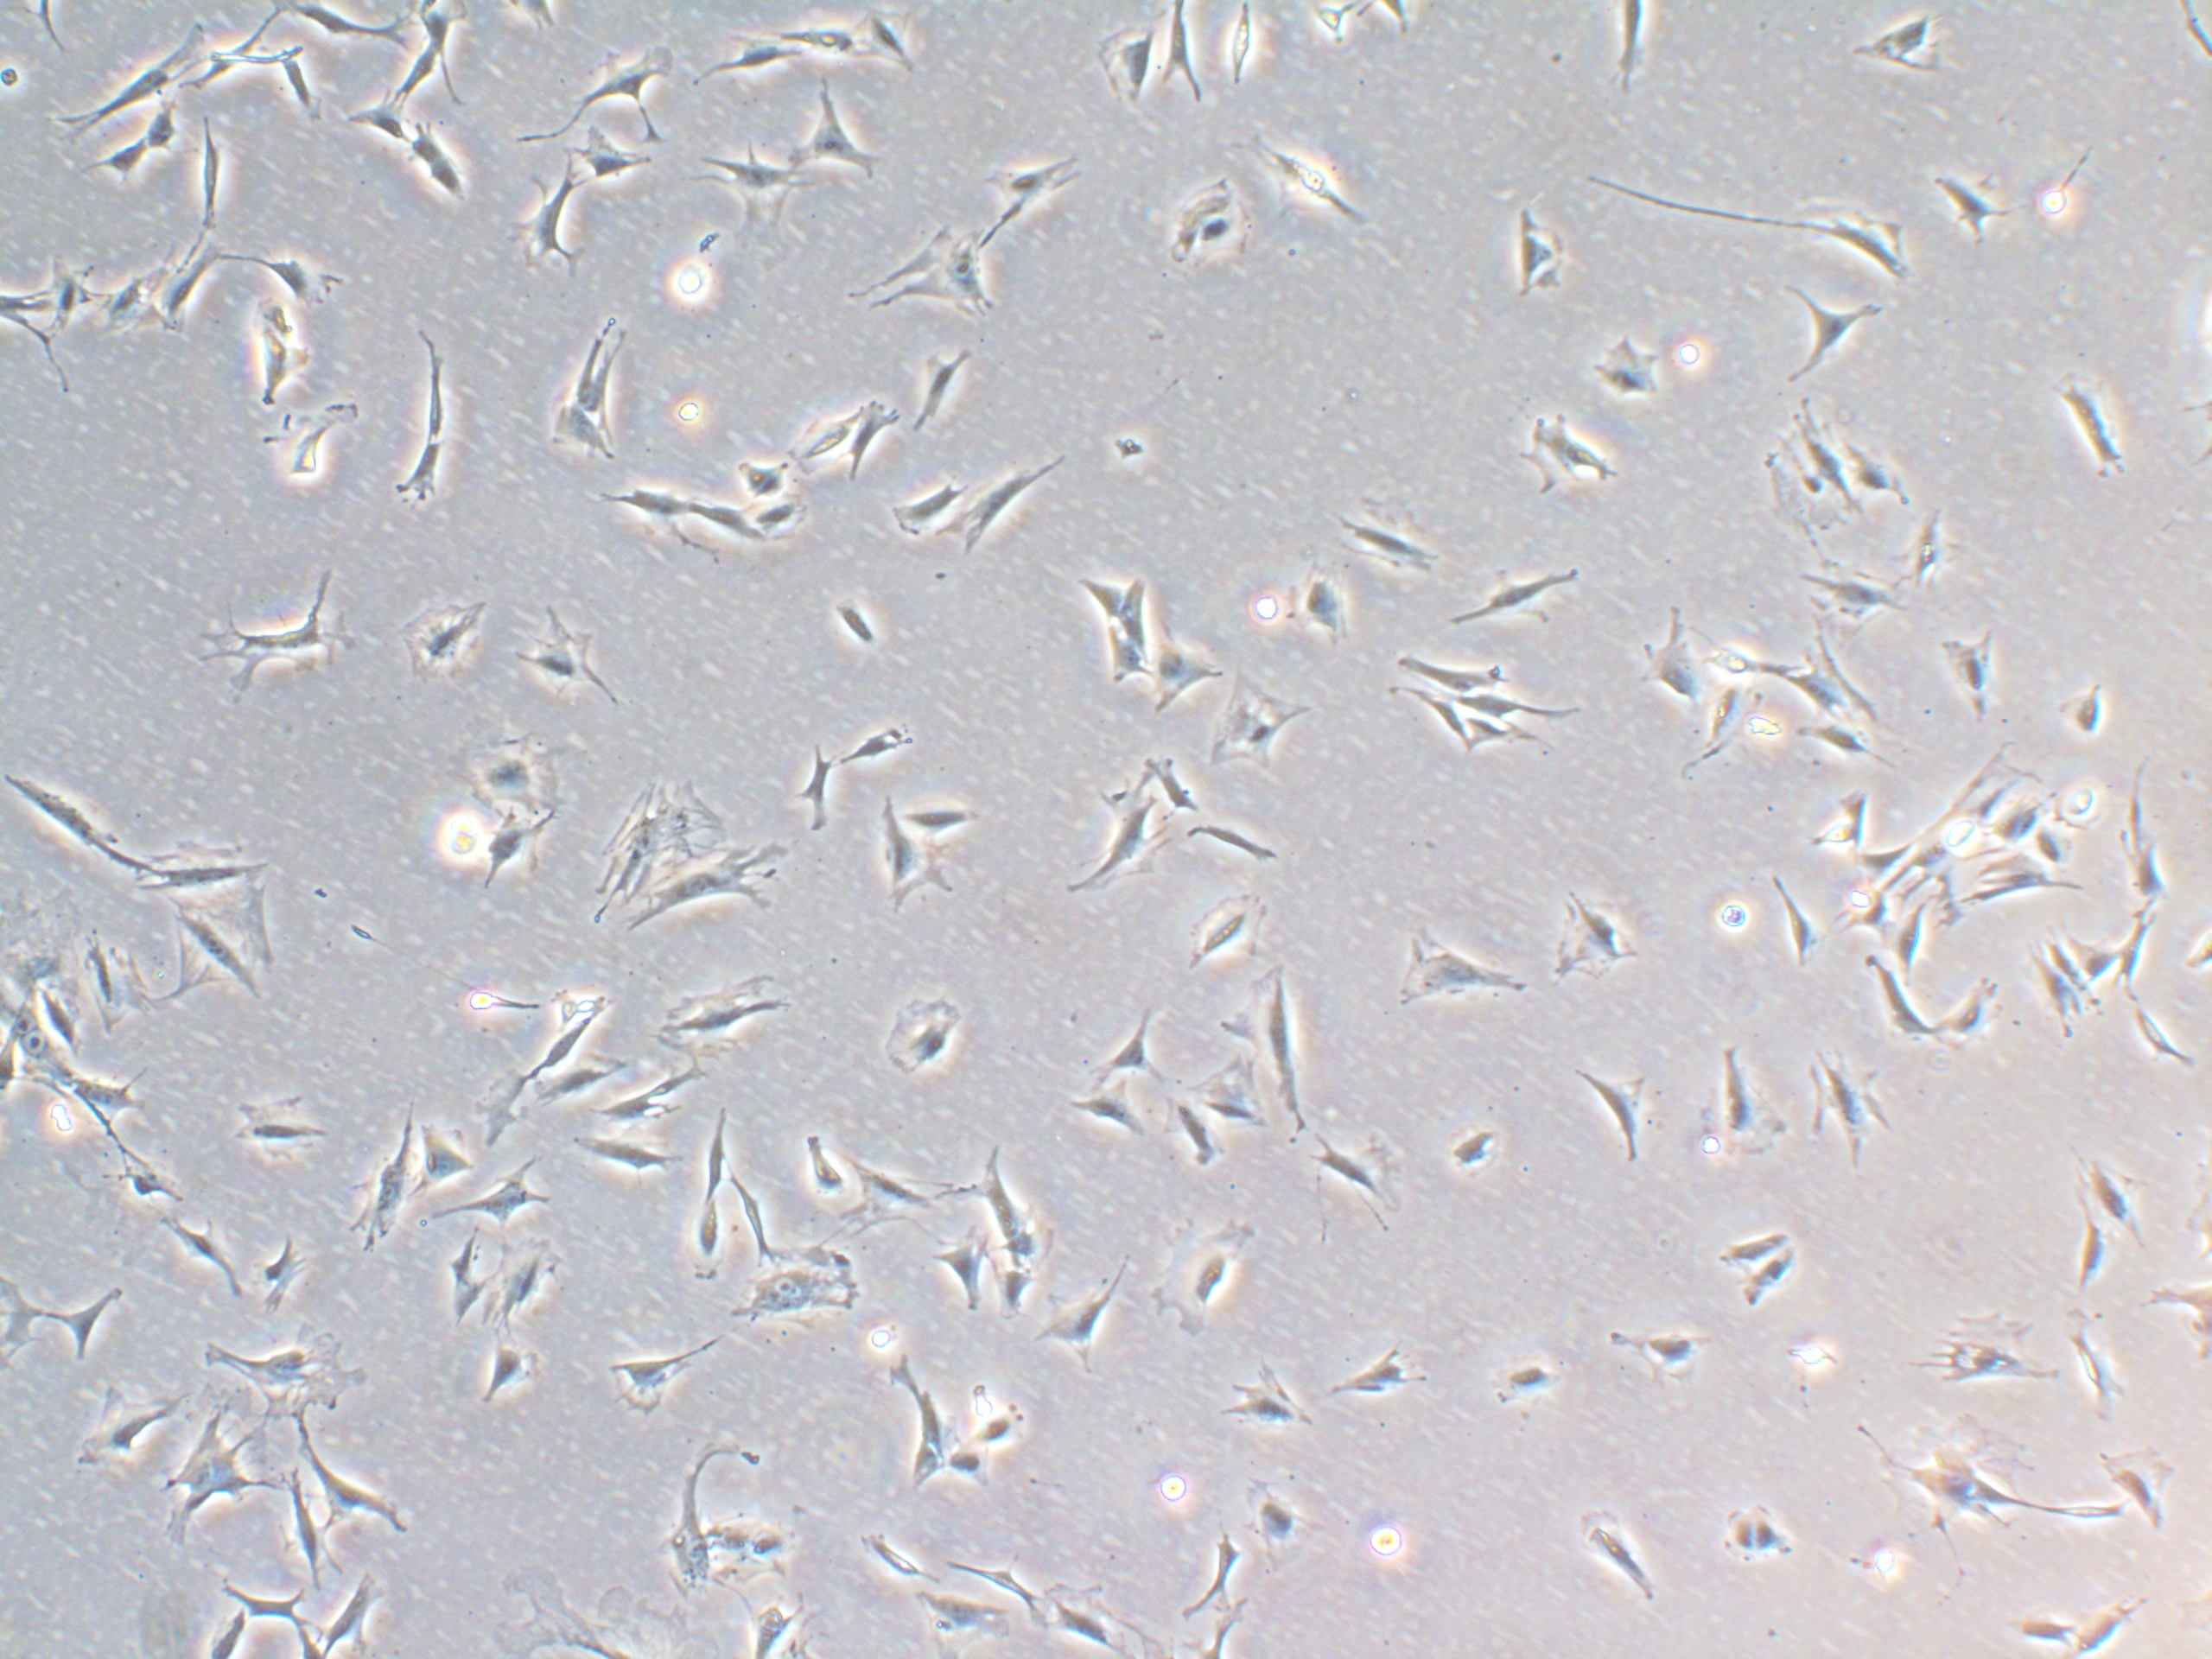small: (1475, 1344, 1571, 1422), (2062, 664, 2127, 748), (822, 589, 892, 662), (2040, 767, 2114, 835)
spread: (589, 749, 775, 960), (1851, 1406, 2062, 1563), (1752, 396, 1925, 551), (195, 1305, 380, 1438), (111, 833, 307, 931), (139, 903, 307, 1016), (855, 228, 1012, 336), (1538, 864, 1656, 1007), (500, 599, 644, 716), (425, 721, 571, 833), (1907, 1295, 2048, 1399), (730, 1251, 874, 1344), (381, 586, 507, 692)
